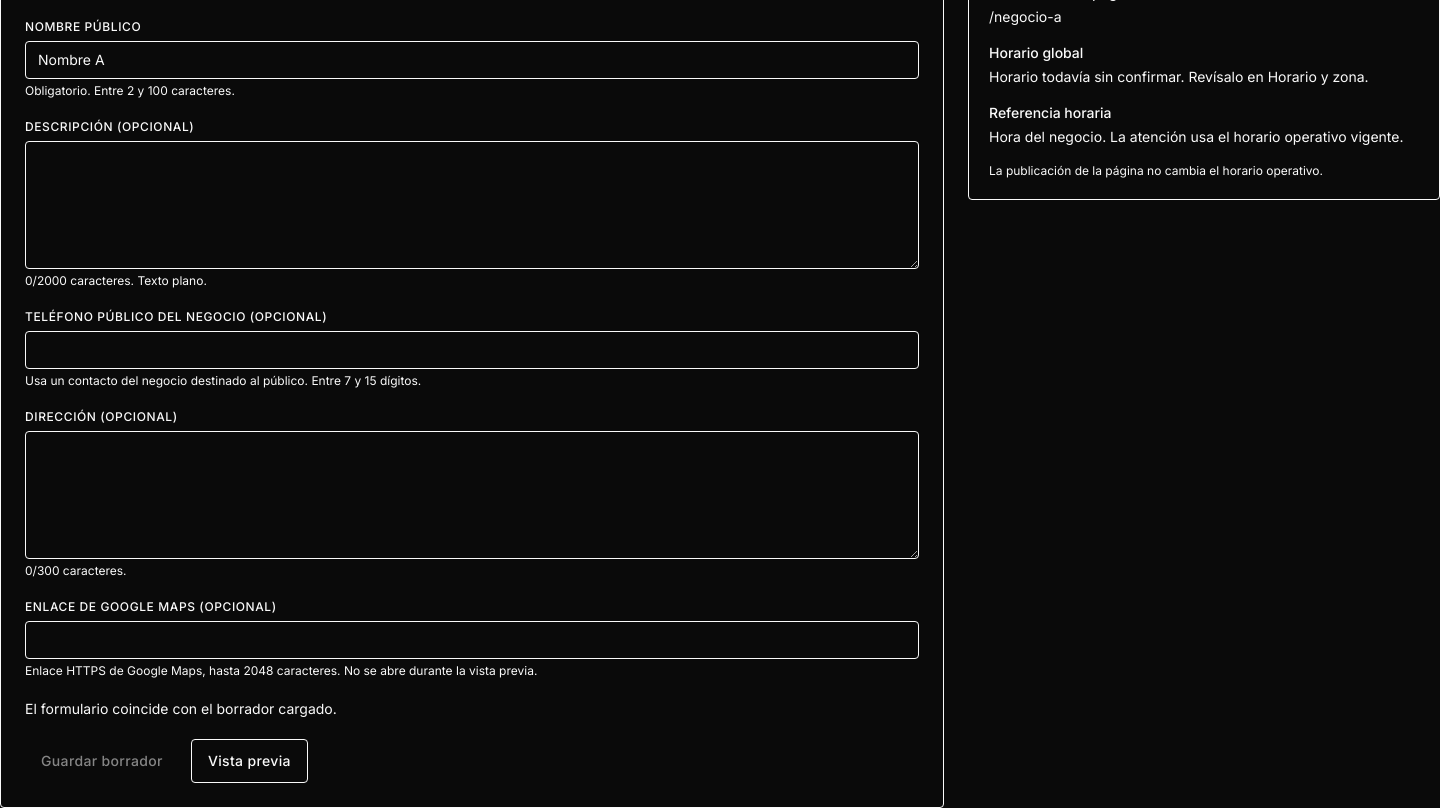
Configuración C2 › rechaza preview de otra versión sin ofrecer publicación
This screenshot has width=1440, height=808.
(page scrolled)
Expected: the field labelled "Nombre público" is shown, [25, 41, 919, 79]
Click the button "Vista previa": (249, 761) [191, 739, 308, 783]
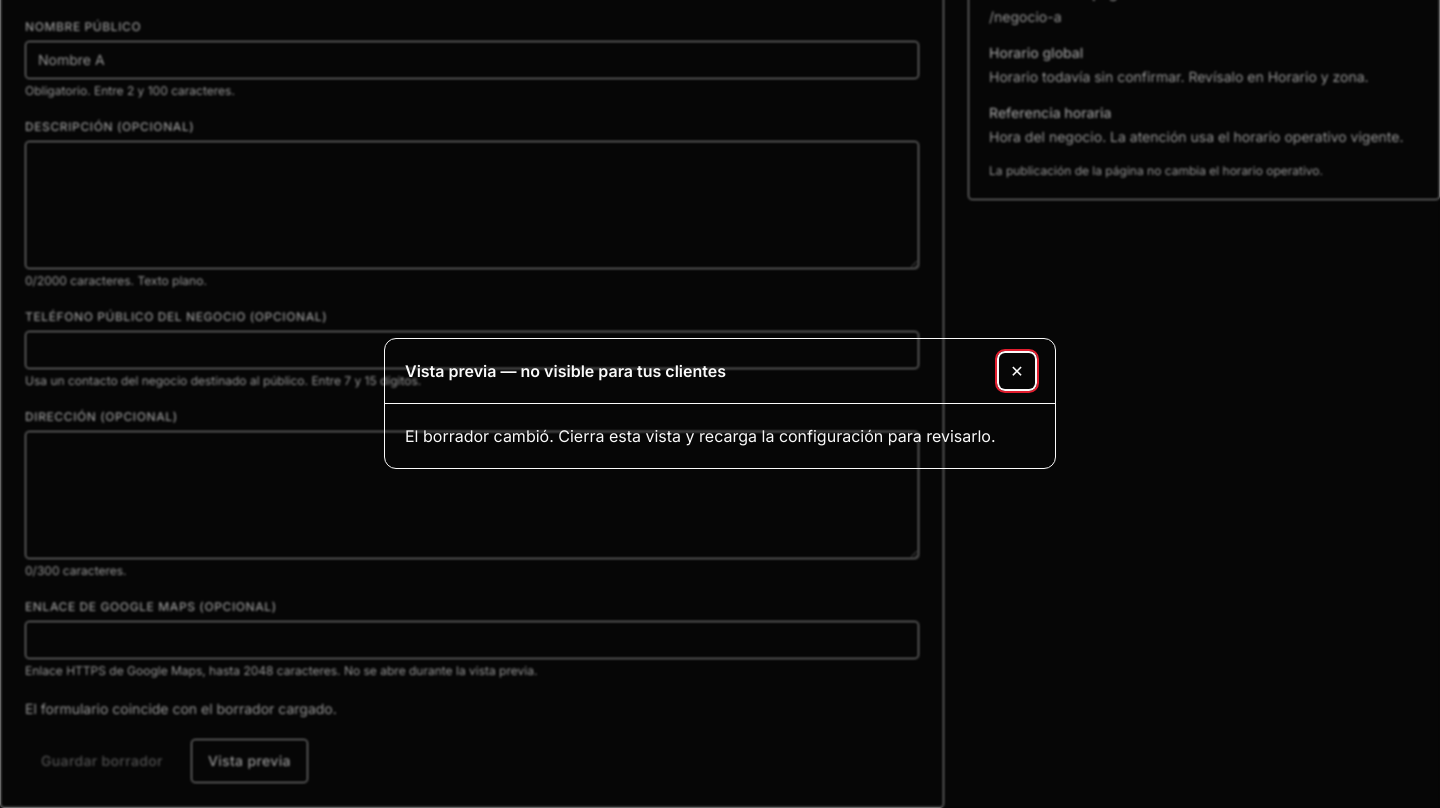
Now the text "El borrador cambió. Cierra esta vista y recarga la configuración para revisarlo." is shown, box [405, 424, 1035, 448]
